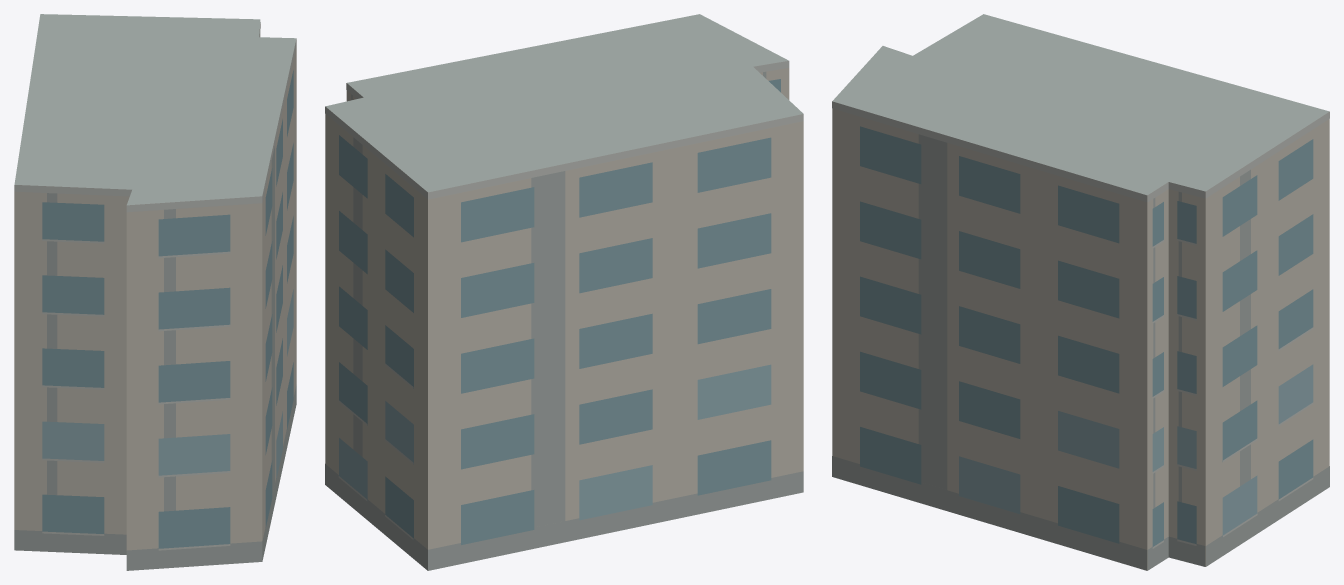
The model's file is survey-upis-32797446.glb.
3 renders of one model, left to right at view 1: azimuth 30°, elevation 25°; view 2: azimuth 150°, elevation 25°; view 3: azimuth 270°, elevation 25°, orthographic. The views are drawn at different scales.
Parts seen in each view (by area): view 1: survey-upis-32797446.tmp; view 2: survey-upis-32797446.tmp; view 3: survey-upis-32797446.tmp.
Boxes of the visible parts, x1,y1,x2,y2 form: survey-upis-32797446.tmp: (14, 14, 296, 570); survey-upis-32797446.tmp: (325, 14, 803, 570); survey-upis-32797446.tmp: (832, 14, 1329, 570).
Bounding box in the file's own units: 13.37 × 12.9 × 15.5.
